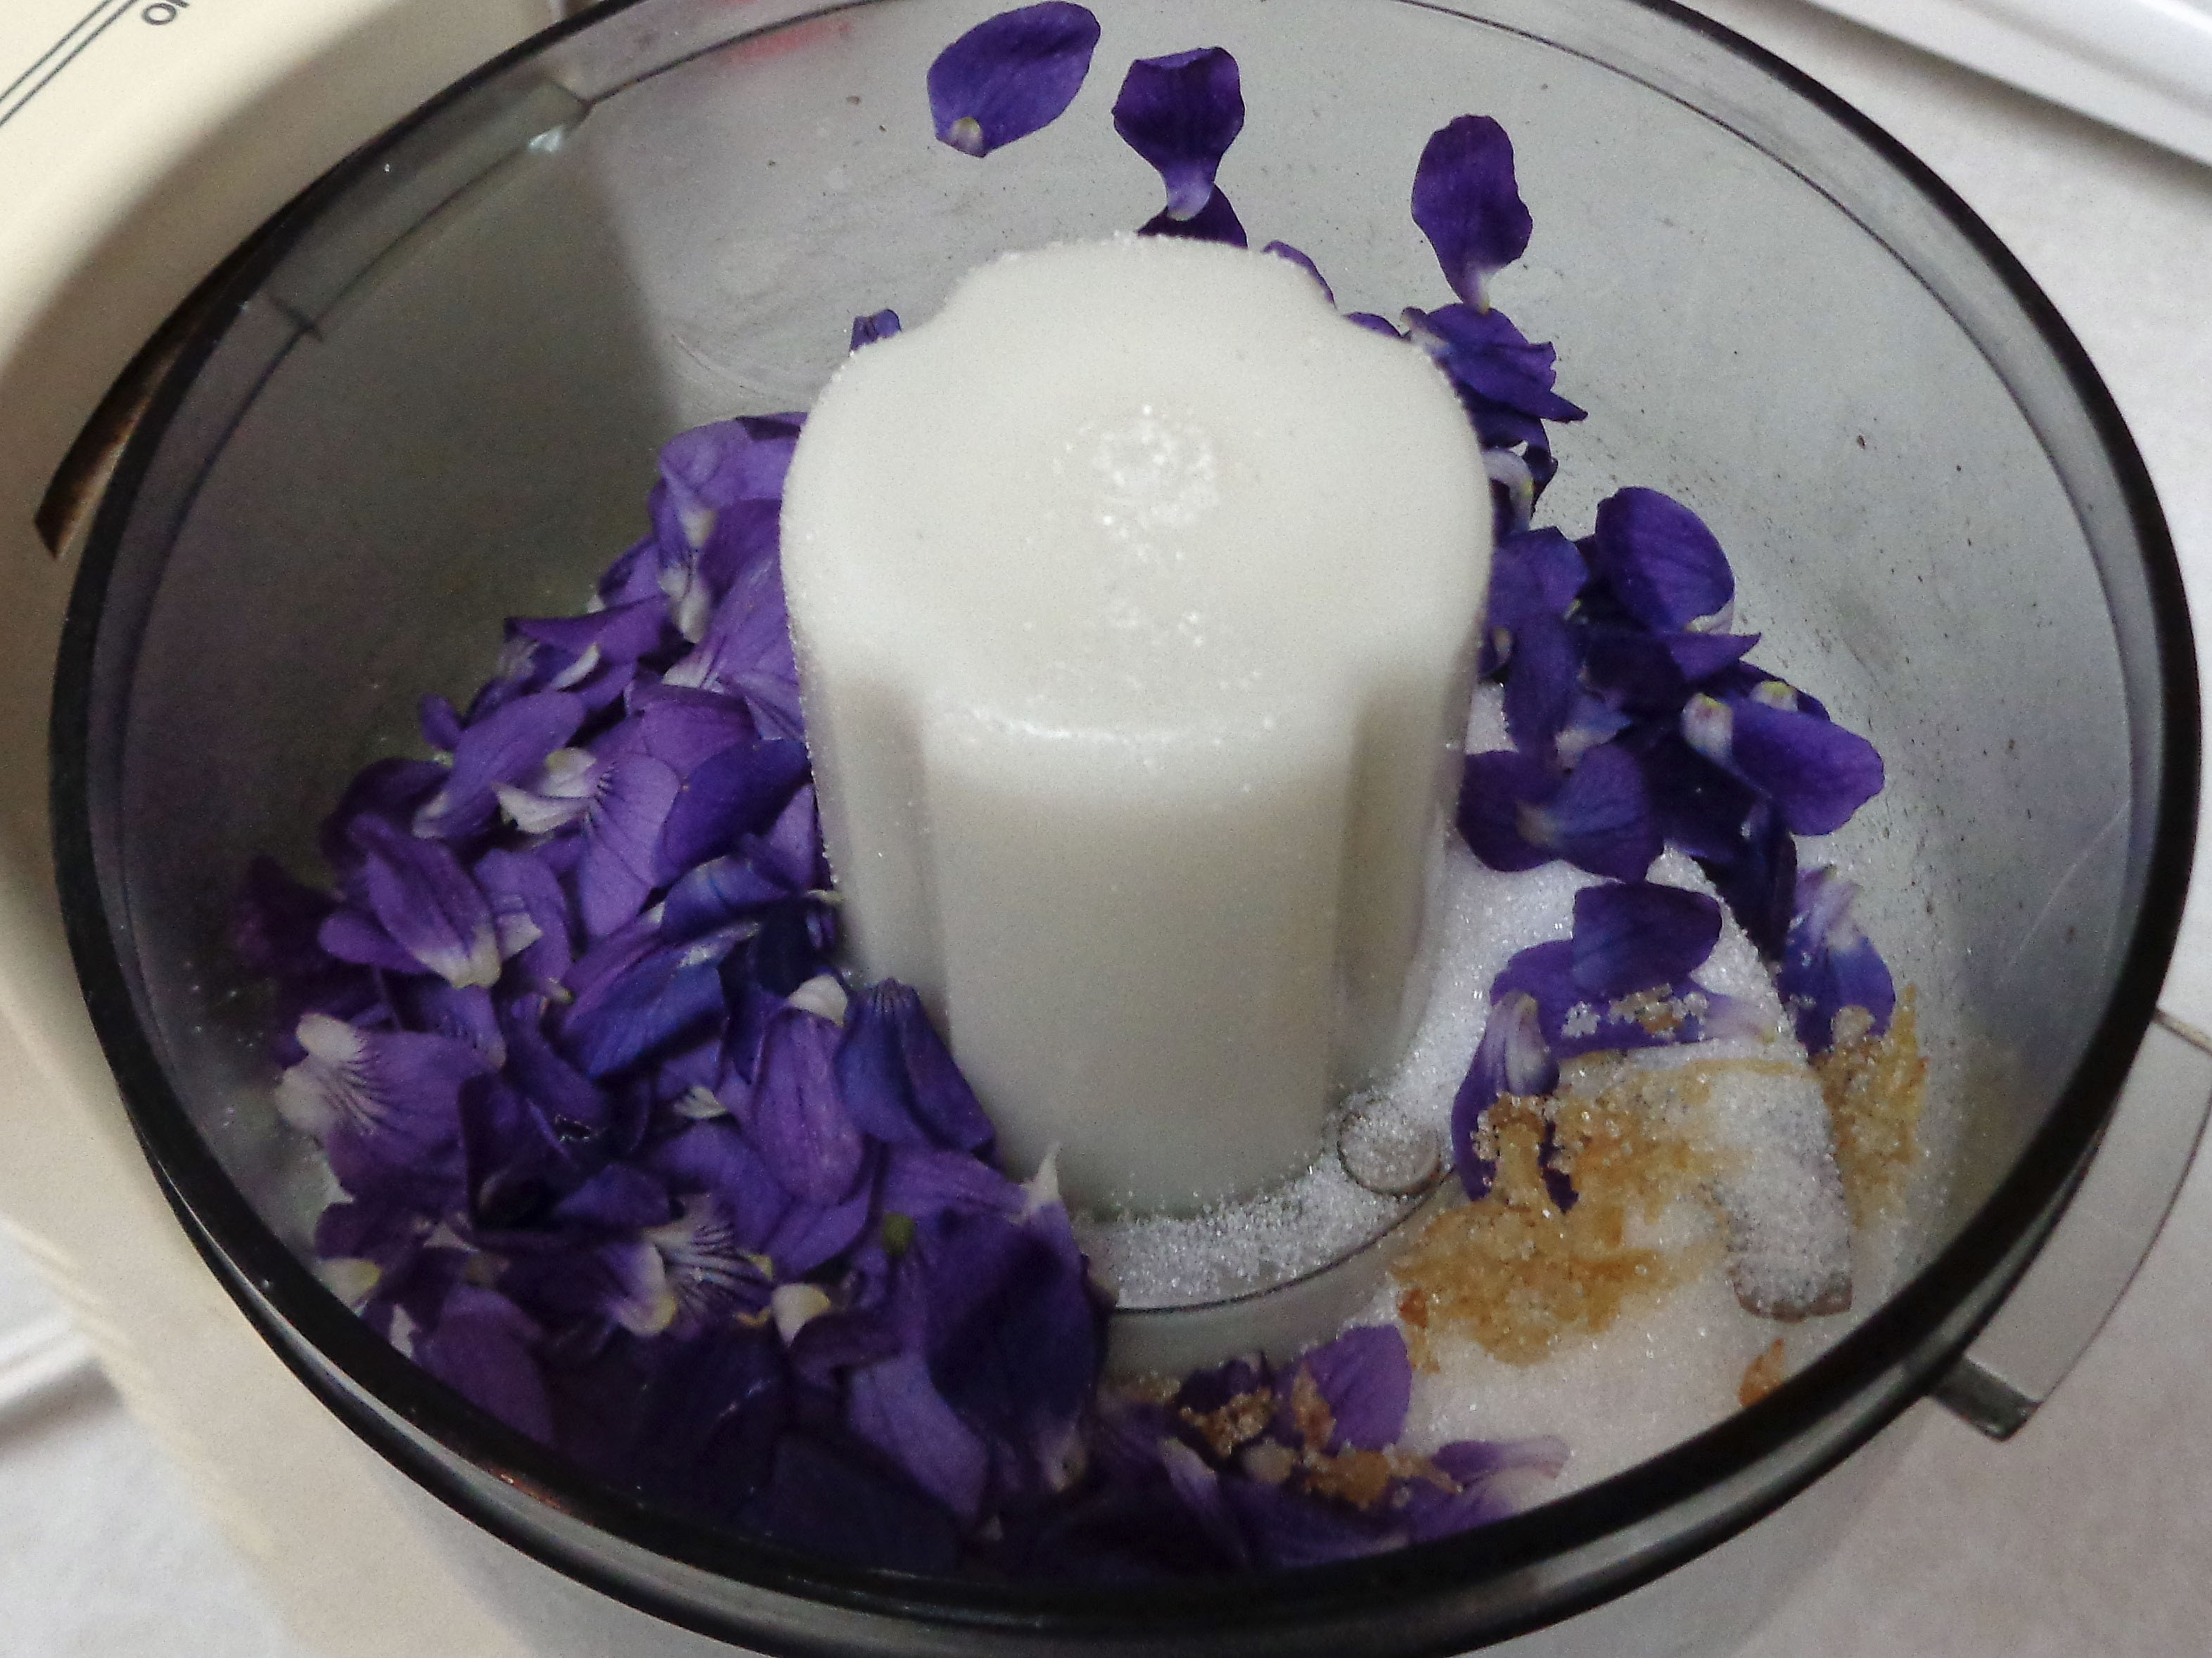violet: (218, 458, 906, 1554), (590, 1010, 1212, 1567), (1507, 493, 1919, 1075)
